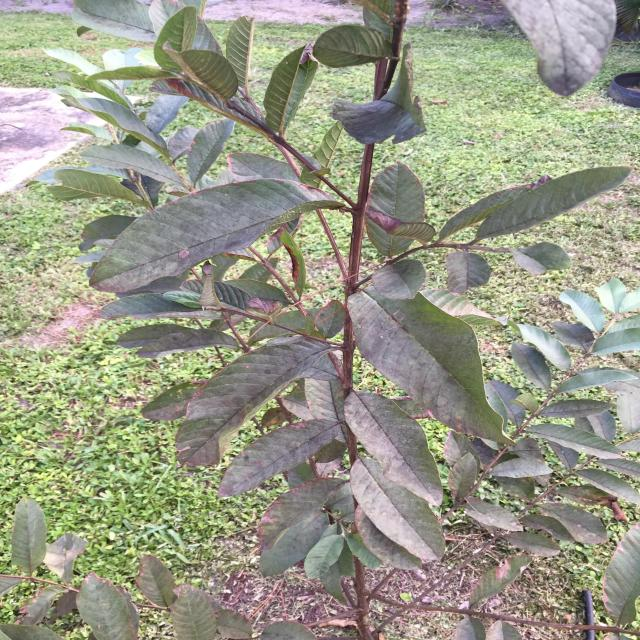Sooty Mold: (34, 3, 638, 612)
